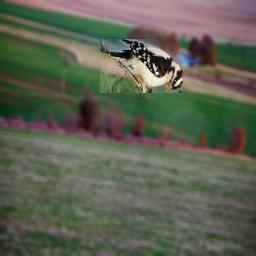Woodpecker: (100, 39, 183, 93)
